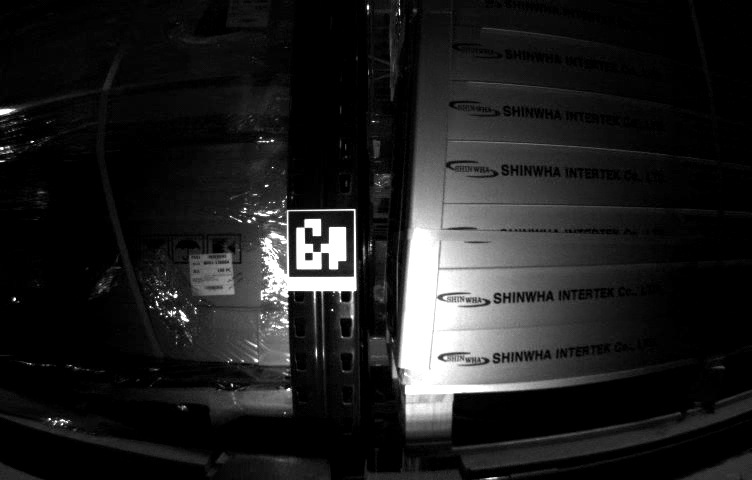True Barcode: (187, 253, 237, 296)
